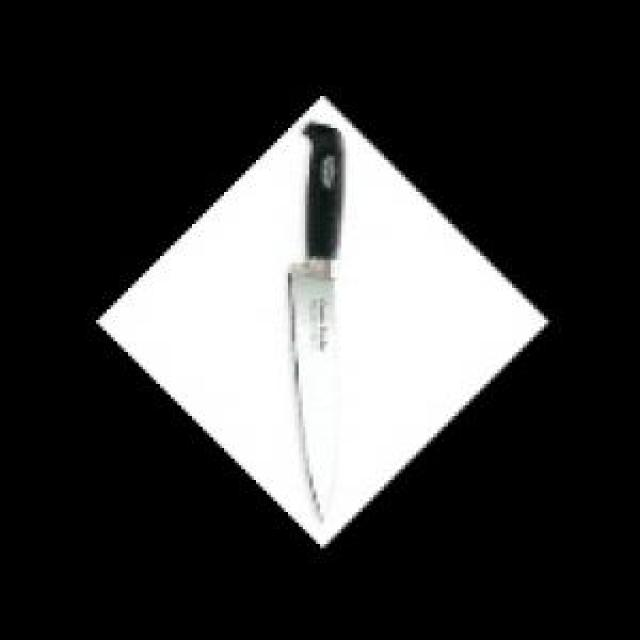knife: (284, 124, 349, 535)
